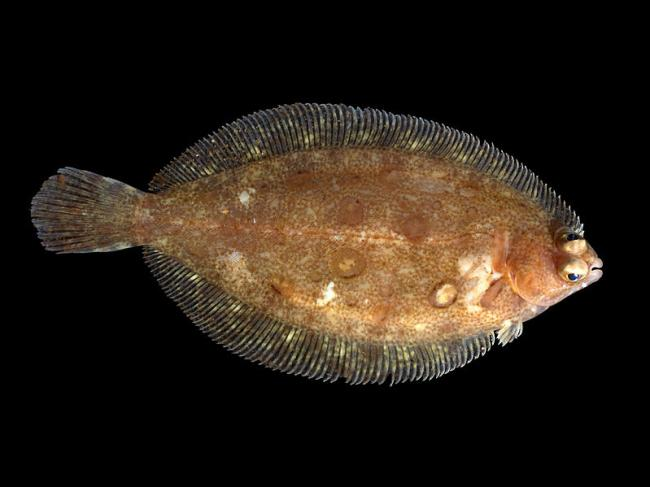fish: (28, 103, 604, 386)
